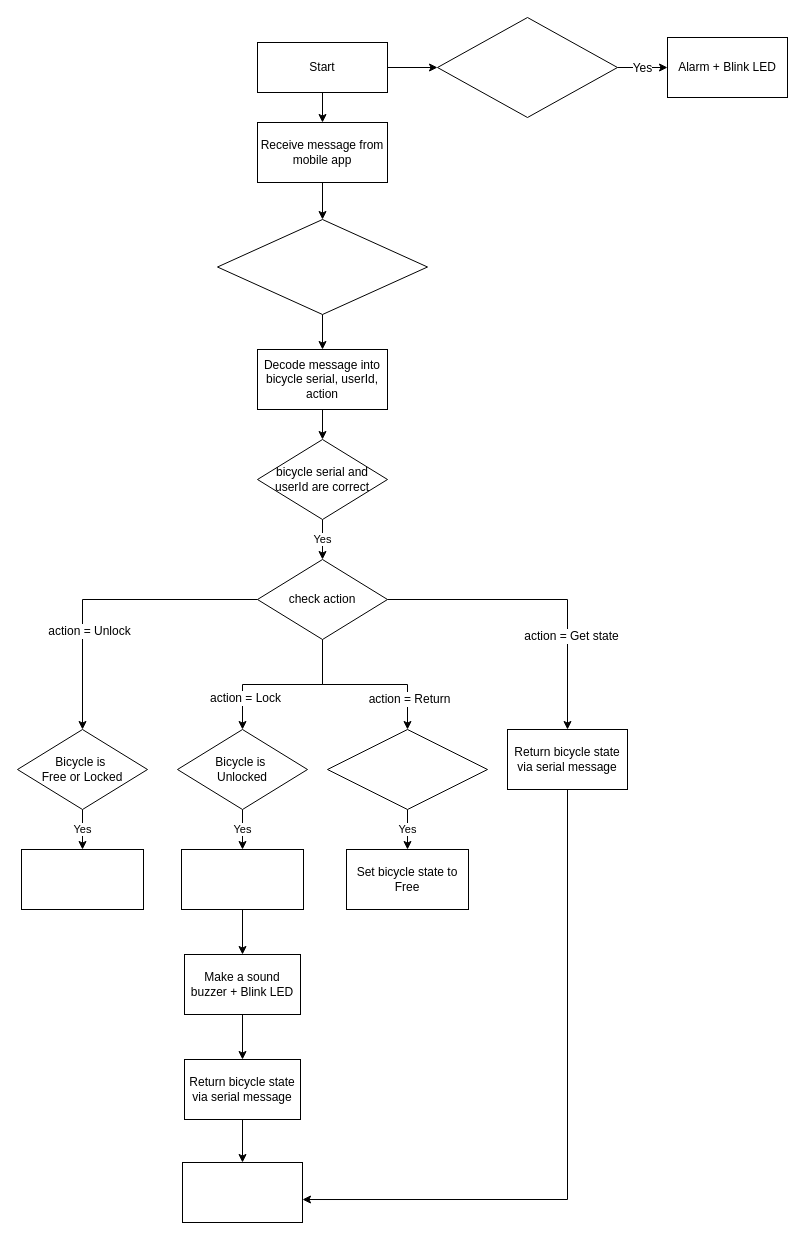
This 805x1240 diagram has some shape labels left out. The shapes that lost their labels are listed below. From the top down, each one's centre as x and y in pixels, then its label:
At point 527,67: "bicycle is Free or Locked and virtual lock is moved".
At point 322,266: "Check message format = MD5(bicycle serial + userId) + userId + action".
At point 407,769: "Bicycle is Locked or Unlocked".
At point 82,879: "Set bicycle state to Unlocked".
At point 242,879: "Set bicycle state to Locked".
At point 242,1192: "End".
